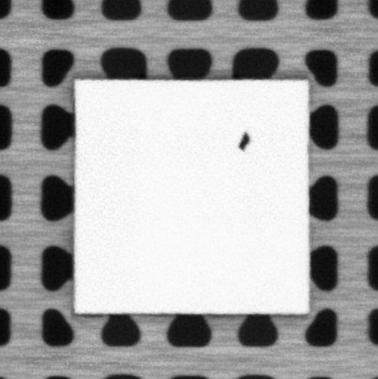DIE_INK: (237, 130, 252, 152)
